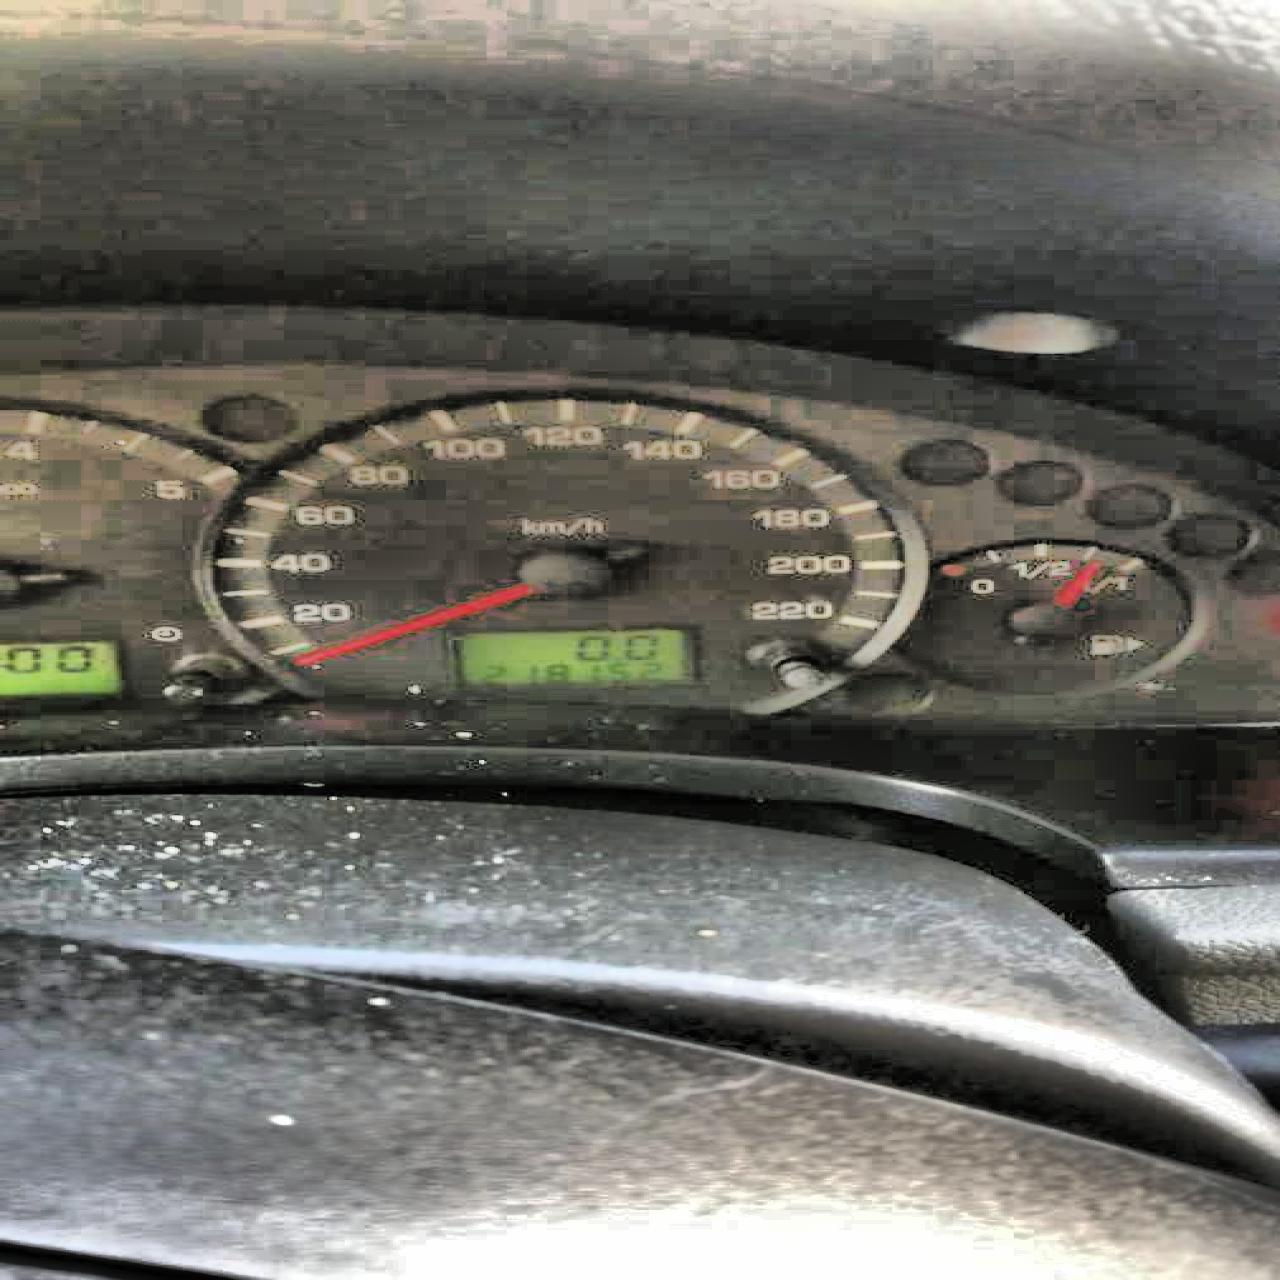-: (611, 651, 621, 660)
0: (573, 632, 608, 660), (624, 633, 659, 659)
1: (523, 661, 539, 682), (586, 661, 600, 681)
2: (476, 661, 506, 682), (636, 661, 667, 680)
5: (602, 661, 631, 680)
8: (543, 661, 573, 683)
odometer: (445, 627, 697, 683)
